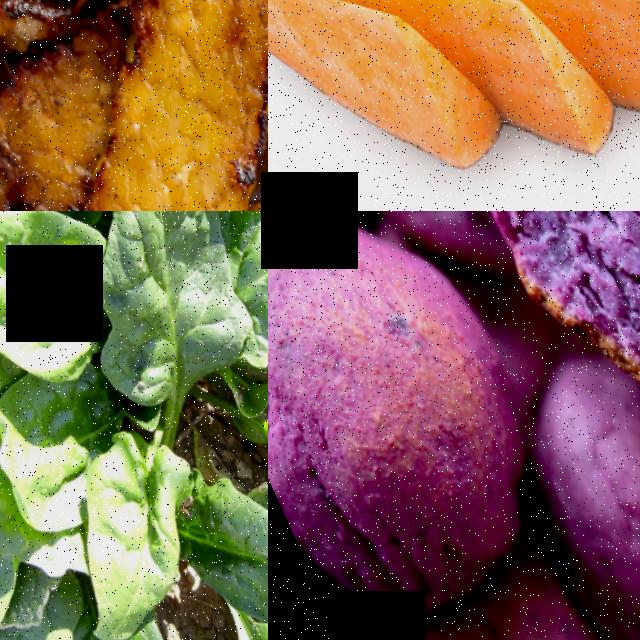spinach: (19, 421, 227, 640), (40, 211, 266, 406), (0, 211, 119, 402), (170, 457, 268, 640), (200, 211, 268, 357)
sweet potato: (268, 211, 576, 640), (443, 211, 640, 518)
